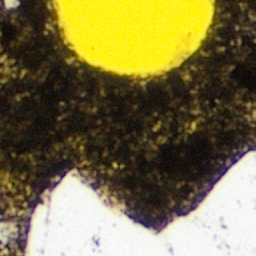air_pores: (51, 0, 214, 78)
cement_matrix: (0, 0, 255, 255)
gravel_crushed_stones: (27, 153, 255, 255), (0, 218, 17, 251), (4, 0, 15, 7)
